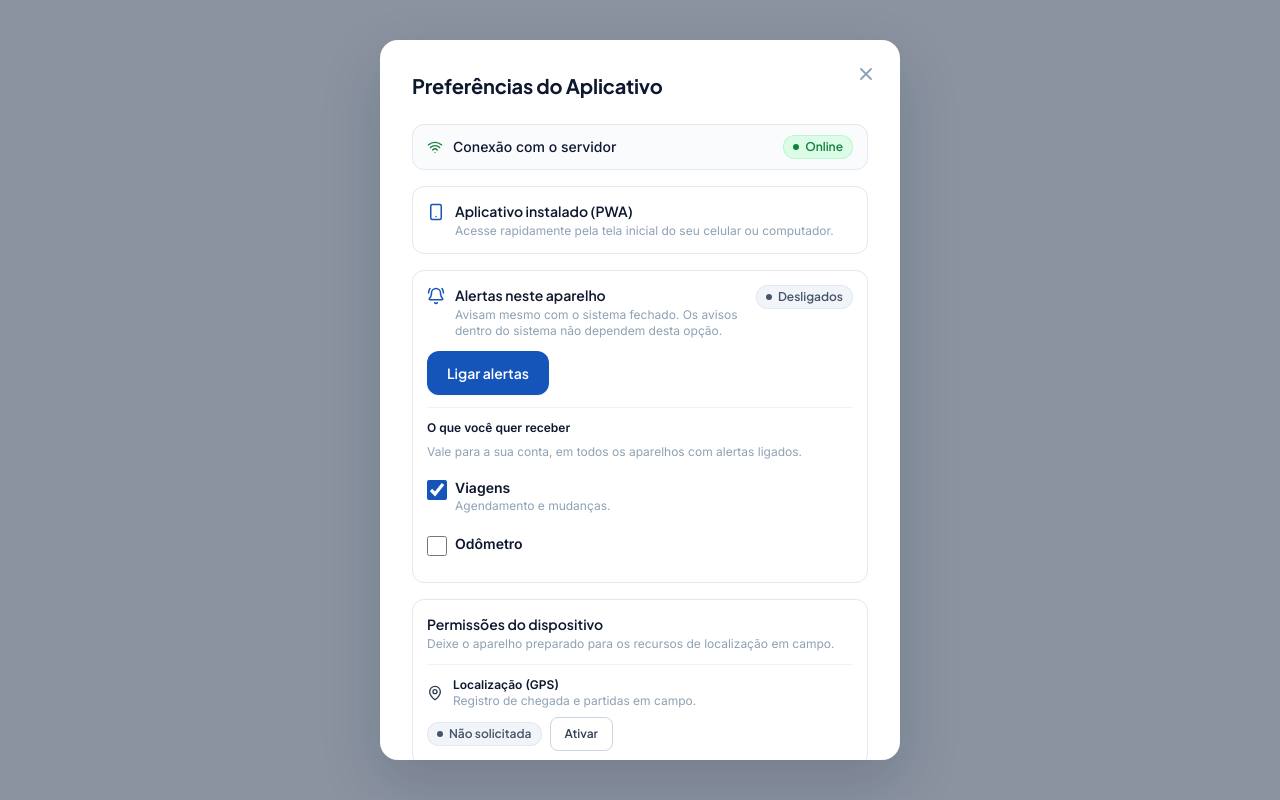
Scenario: Ligar e desligar neste aparelho › só pede a permissão depois do toque e registra a assinatura
Click the button "Ligar alertas": coordinates (488, 373) [427,351,549,395]
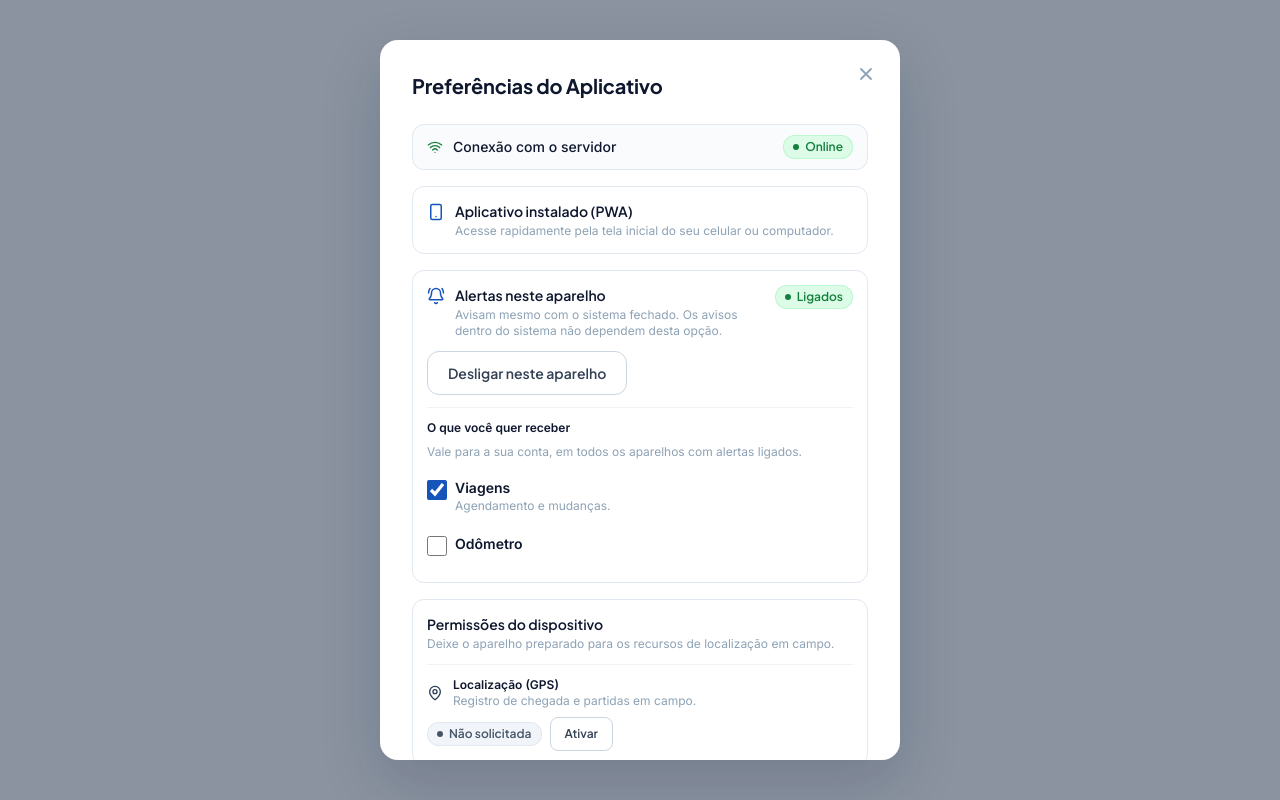
Expected: the text "Ligados" is shown, [775,285,853,309]
Now the button "Desligar neste aparelho" is shown, box [427,351,627,395]
